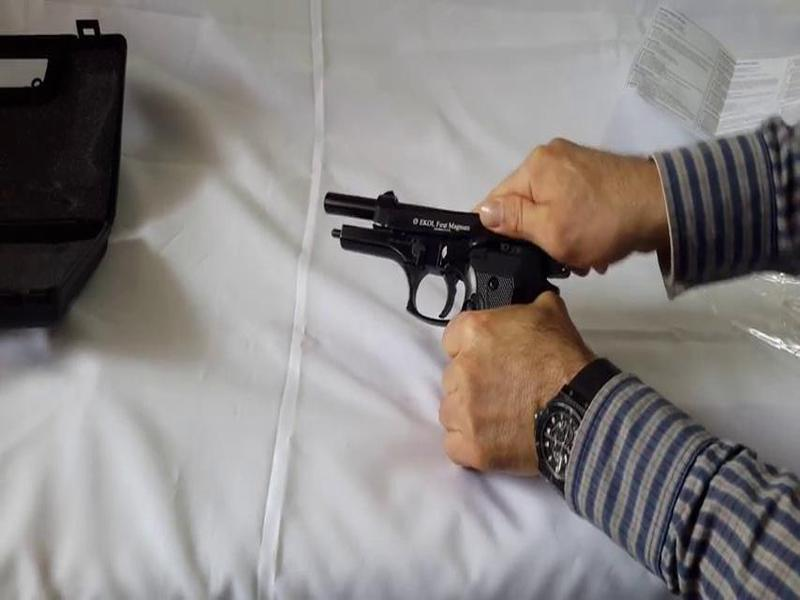Pistola: (301, 184, 574, 364)
